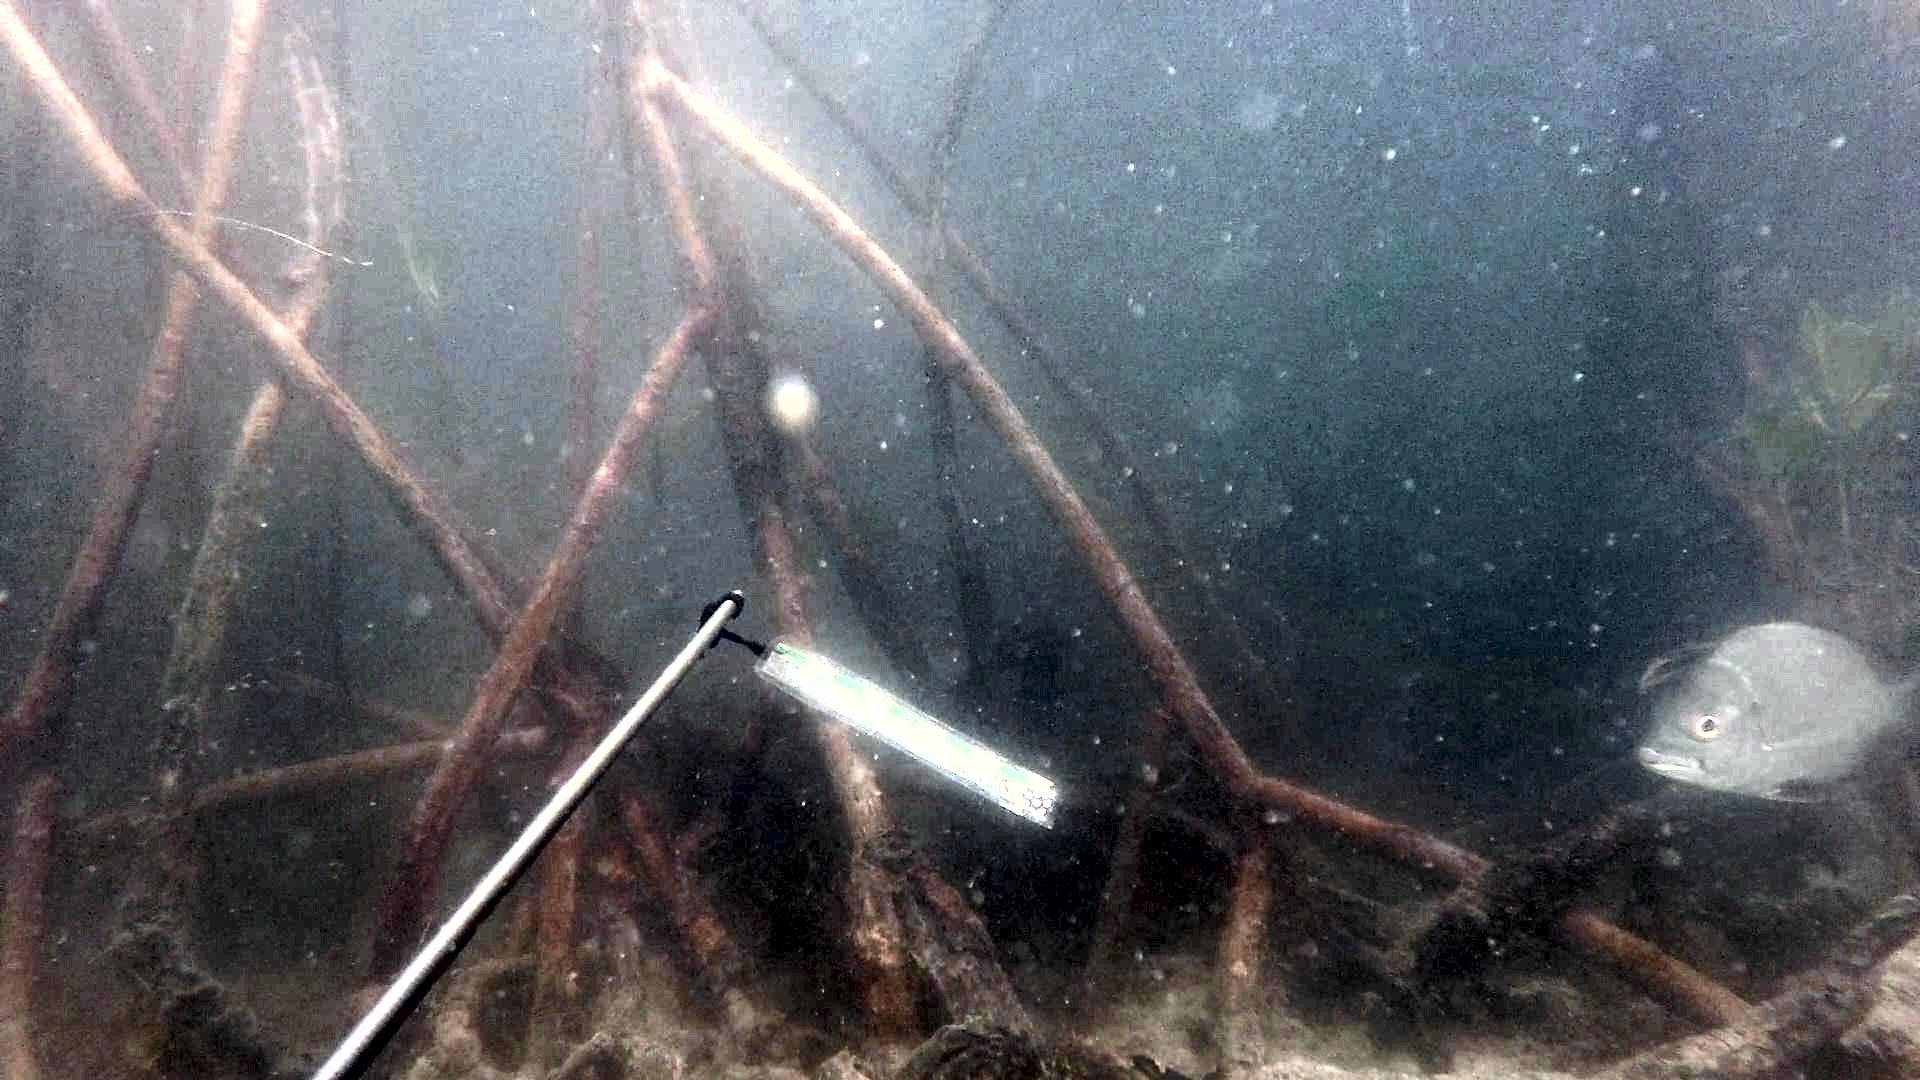acanthopagrus palmaris: (1618, 611, 1920, 819)
